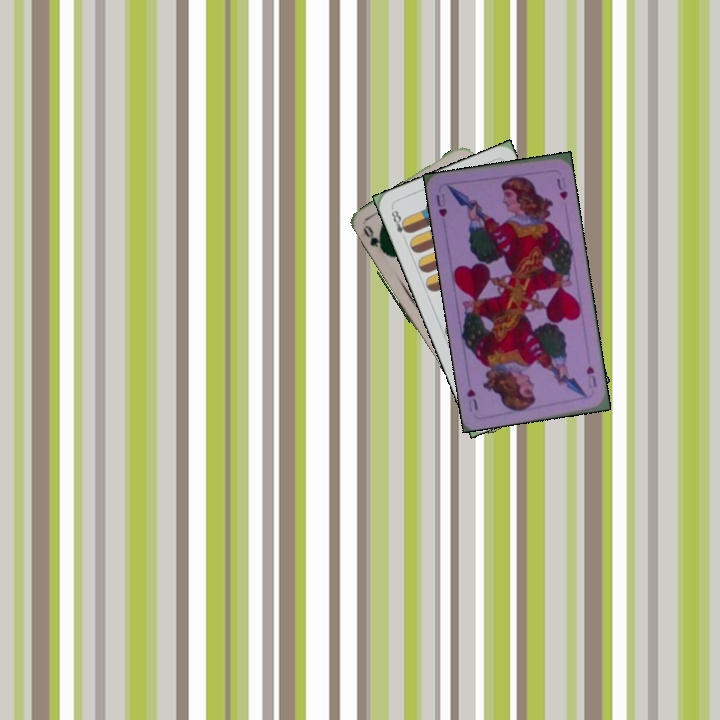E8: (387, 204, 412, 243)
GO: (359, 222, 390, 257)
HU: (432, 189, 450, 219), (582, 362, 599, 390)
